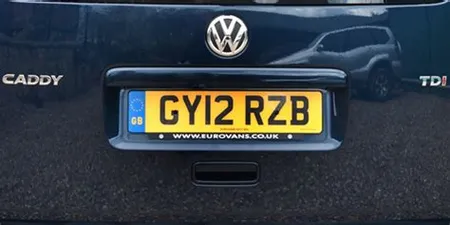number_plate: (98, 71, 342, 153)
